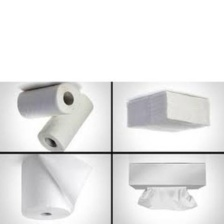book: (124, 158, 210, 192)
tissue: (15, 153, 99, 221), (121, 86, 216, 140), (33, 88, 98, 153), (13, 81, 83, 123), (133, 181, 202, 216)
